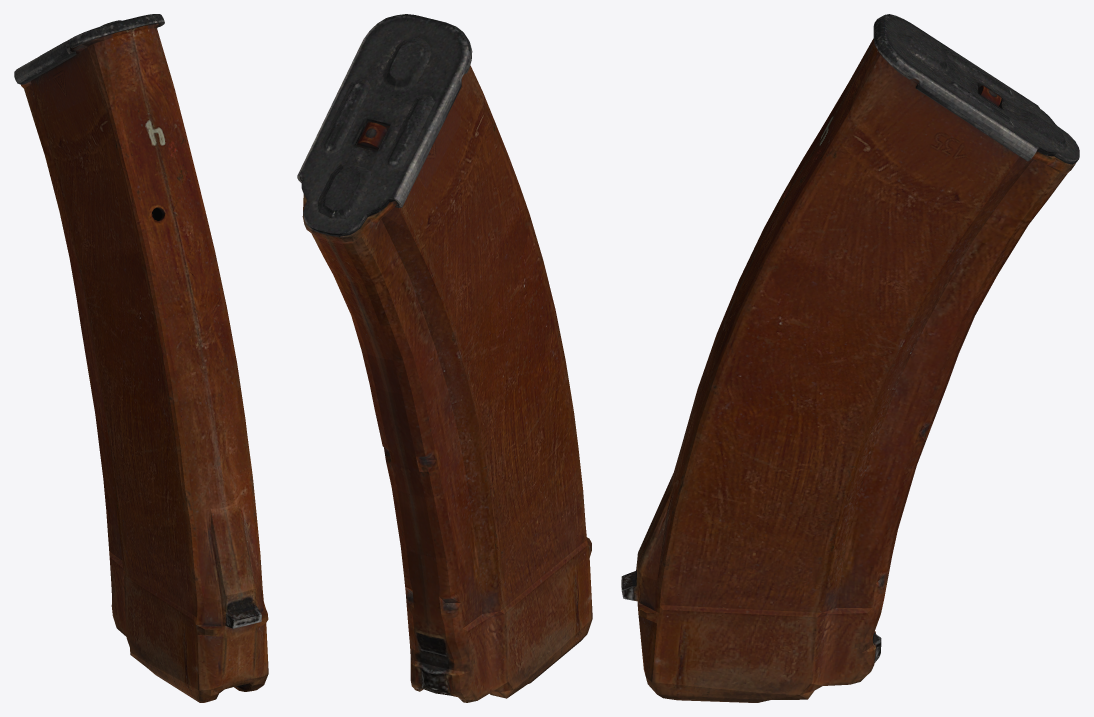
3 renders of one model, left to right at view 1: azimuth 30°, elevation 25°; view 2: azimuth 150°, elevation 25°; view 3: azimuth 270°, elevation 25°, orthographic. The views are drawn at different scales.
Visible parts, largest first — view 1: TW_564ca99c4bdc2d16268b4589_PZ_Import; view 2: TW_564ca99c4bdc2d16268b4589_PZ_Import; view 3: TW_564ca99c4bdc2d16268b4589_PZ_Import.
Boxes of the visible parts, x1,y1,x2,y2 form: TW_564ca99c4bdc2d16268b4589_PZ_Import: (14,14,268,702); TW_564ca99c4bdc2d16268b4589_PZ_Import: (297,14,592,702); TW_564ca99c4bdc2d16268b4589_PZ_Import: (621,14,1079,702).
Size of the model in its own units: 0.0182 by 0.0744 by 0.1188.
Materials: 1 (1 with a texture image).
